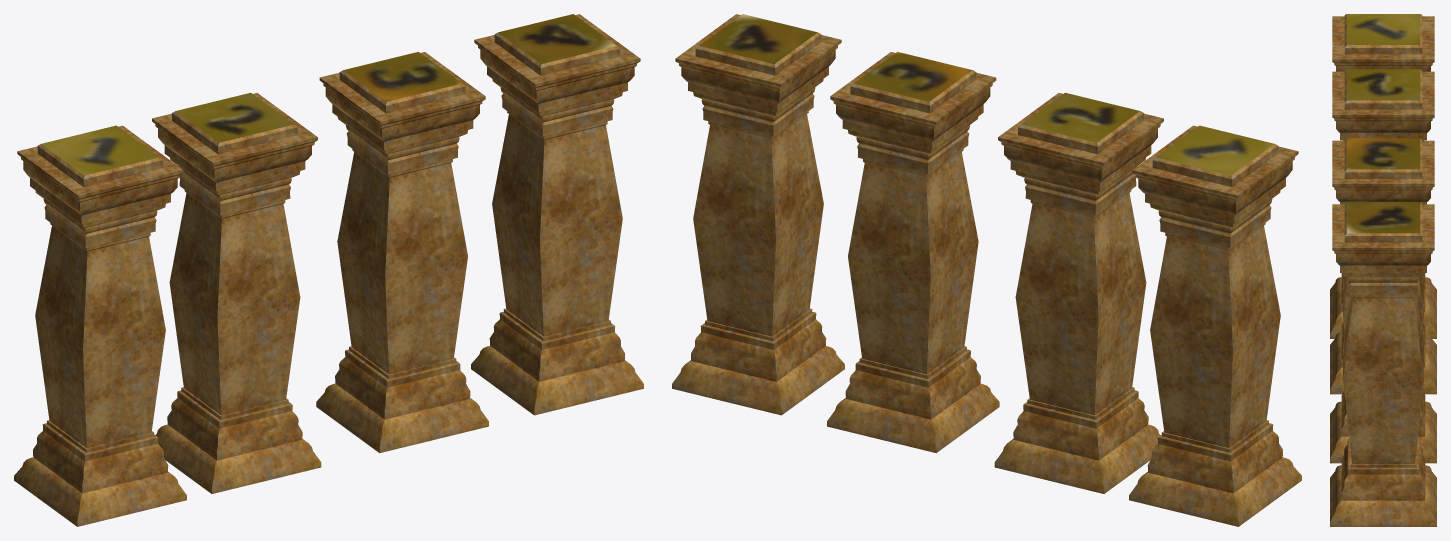
Rendered from Puzzle 6 Pillars.fbx.
The picture shows the model from 3 angles, left to right: view 1: azimuth 30°, elevation 25°; view 2: azimuth 150°, elevation 25°; view 3: azimuth 270°, elevation 25°; orthographic projection. The views are drawn at different scales.
Visible parts, largest first — view 1: Object_4.002, Object_4, Object_4.003, Object_4.001; view 2: Object_4.002, Object_4, Object_4.003, Object_4.001; view 3: Object_4.003, Object_4.002, Object_4.001, Object_4.
Part boxes in pixels (left/top/right/bottom): Object_4.002: left=316, top=52, right=488, bottom=453; Object_4: left=14, top=125, right=186, bottom=526; Object_4.003: left=471, top=14, right=643, bottom=415; Object_4.001: left=152, top=92, right=321, bottom=493; Object_4.002: left=827, top=52, right=999, bottom=453; Object_4: left=1129, top=125, right=1301, bottom=526; Object_4.003: left=672, top=14, right=844, bottom=415; Object_4.001: left=994, top=92, right=1163, bottom=493; Object_4.003: left=1330, top=202, right=1436, bottom=526; Object_4.002: left=1330, top=138, right=1436, bottom=463; Object_4.001: left=1330, top=69, right=1436, bottom=394; Object_4: left=1330, top=14, right=1436, bottom=338.
Size of the model in its own units: 339 by 195 by 65.62.
